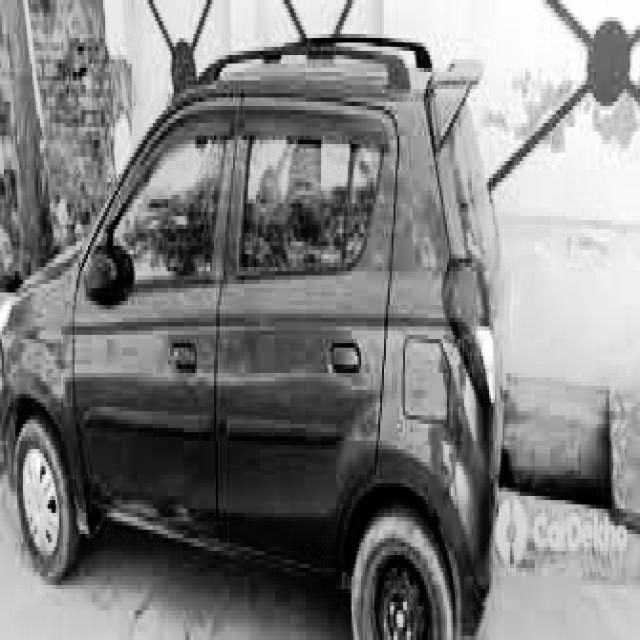Car: (0, 19, 518, 633)
